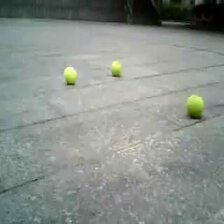tennis: (186, 95, 203, 116), (62, 68, 76, 84), (110, 61, 122, 75)
